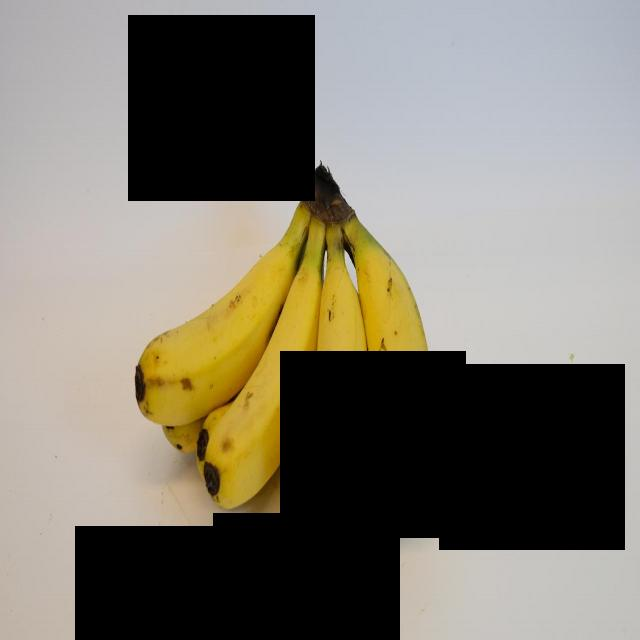banana: (141, 200, 312, 444), (204, 259, 314, 504), (360, 232, 439, 513), (307, 234, 367, 503)
